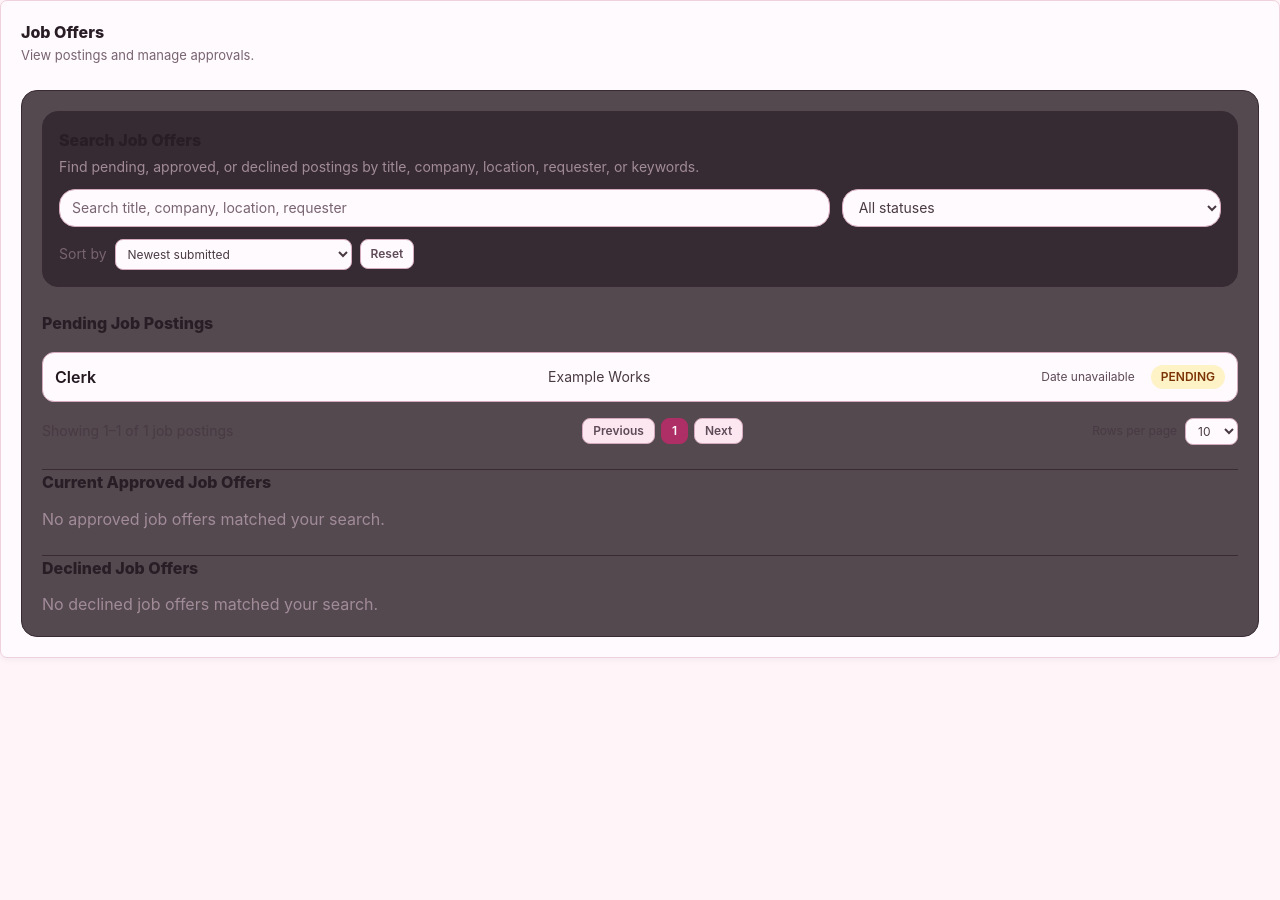
admin job review › recovers from a thrown approval error, permits retry, and releases page scrolling on success
Step 1. Click the button with aria-label "View Clerk details" → (640, 377), box x1=42 y1=352 x2=1238 y2=402
(page scrolled)
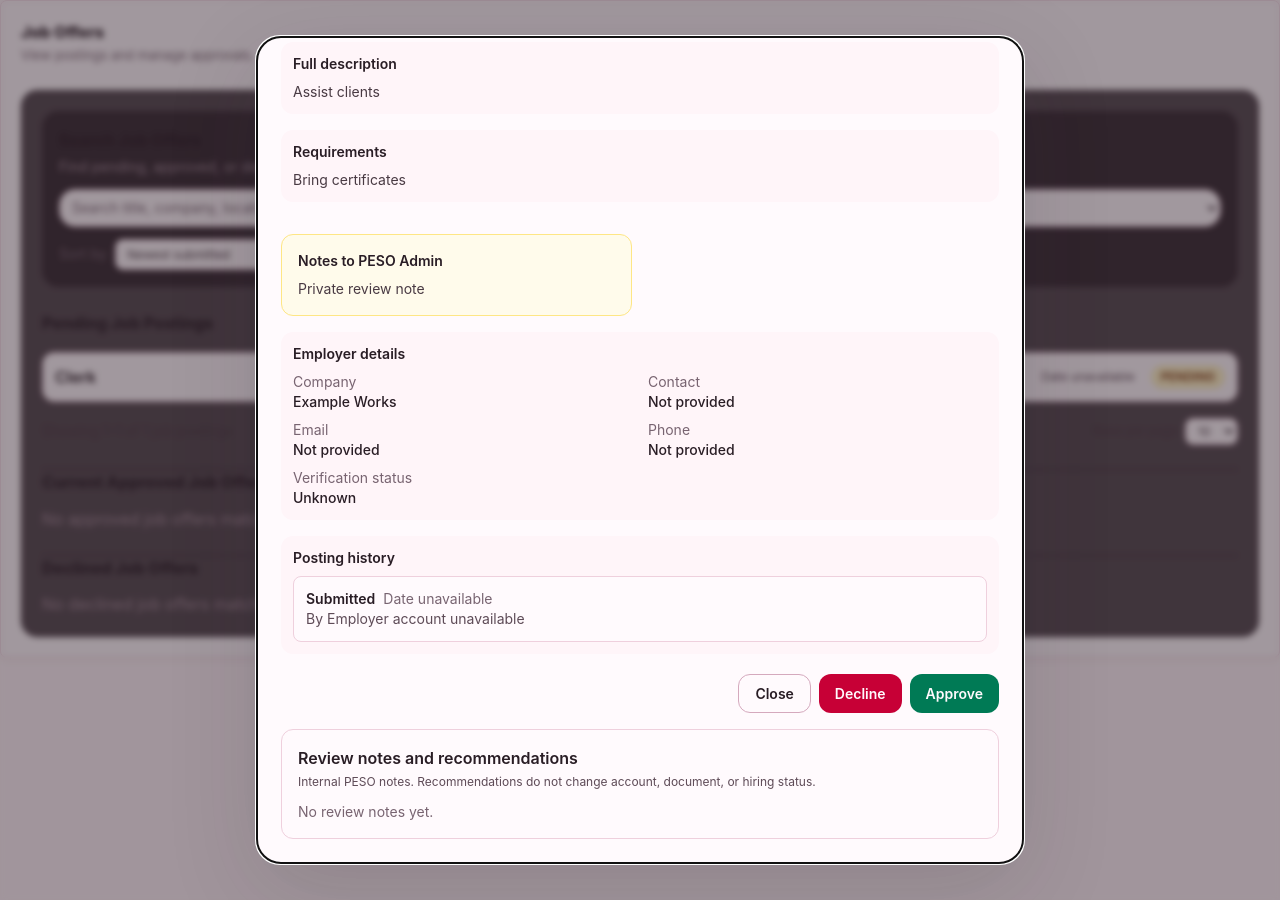
Step 2. Click the button "Approve" → (954, 693), box x1=910 y1=674 x2=999 y2=713
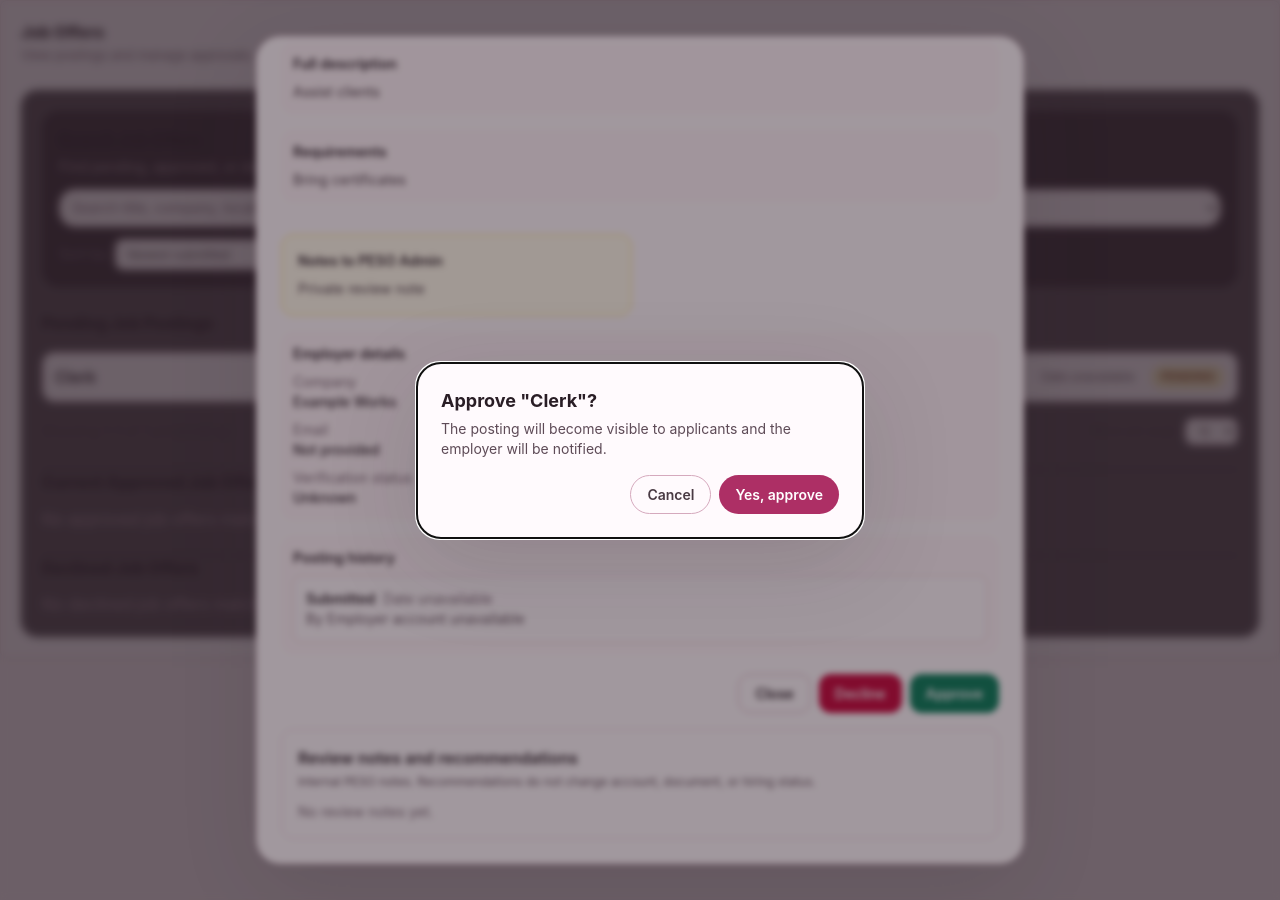
Step 3. Click the button "Yes, approve" → (779, 494), box x1=720 y1=474 x2=839 y2=514
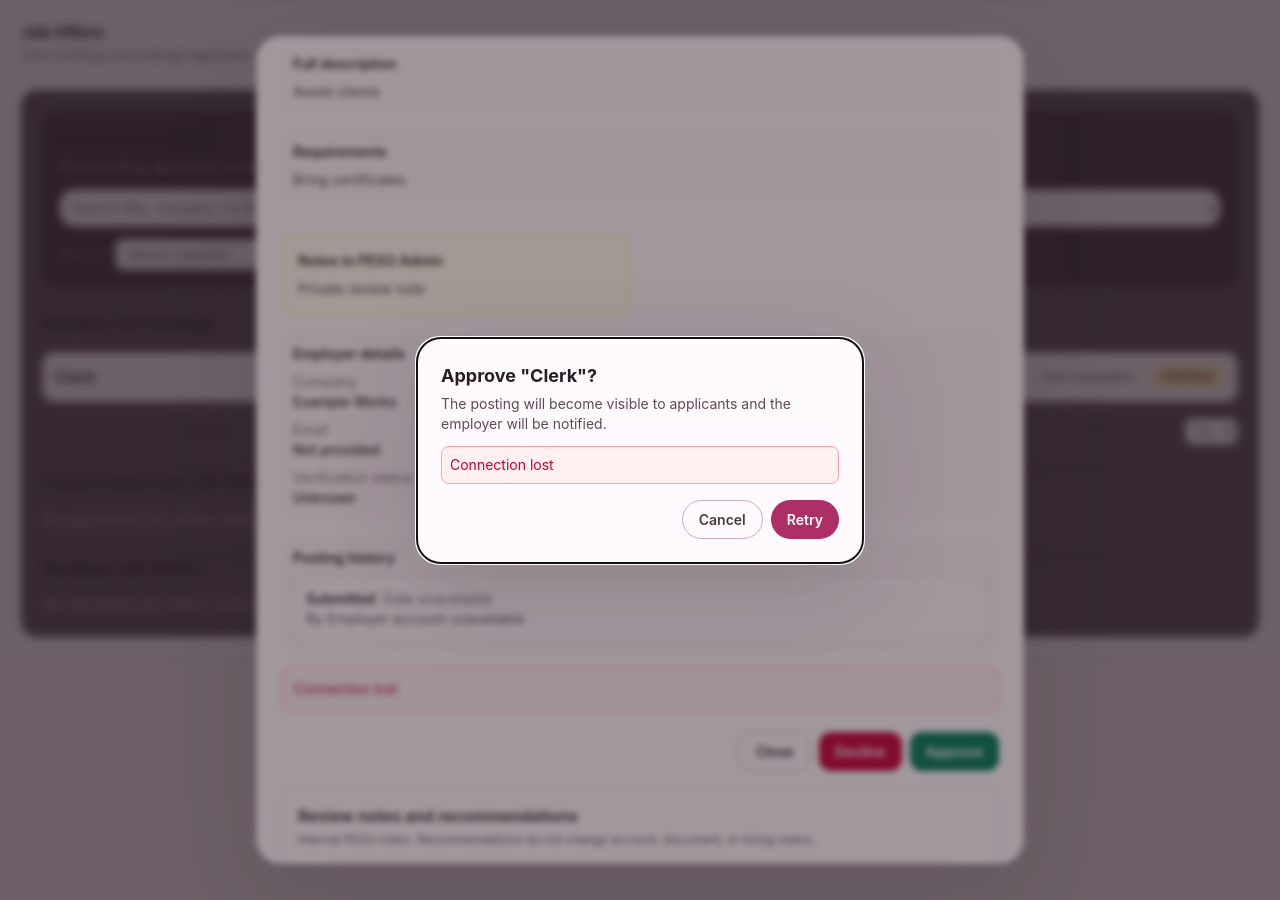
expect the button "Cancel" is enabled: met, box x1=682 y1=500 x2=763 y2=538
expect the message reads "Connection lost": met, box x1=450 y1=456 x2=554 y2=472
Step 4. Click the button "Retry" → (805, 519), box x1=771 y1=500 x2=839 y2=538
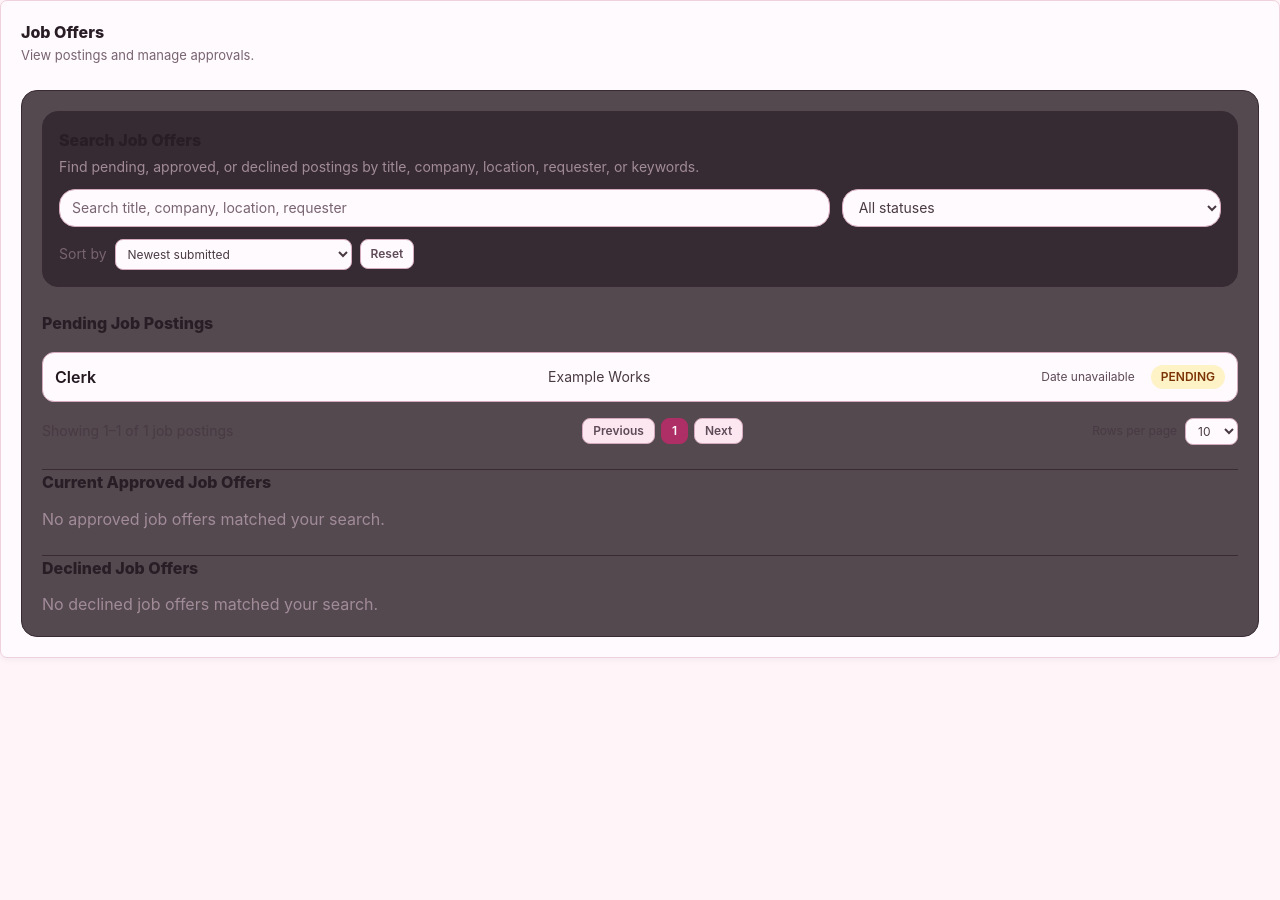
expect the dialog is gone: met
